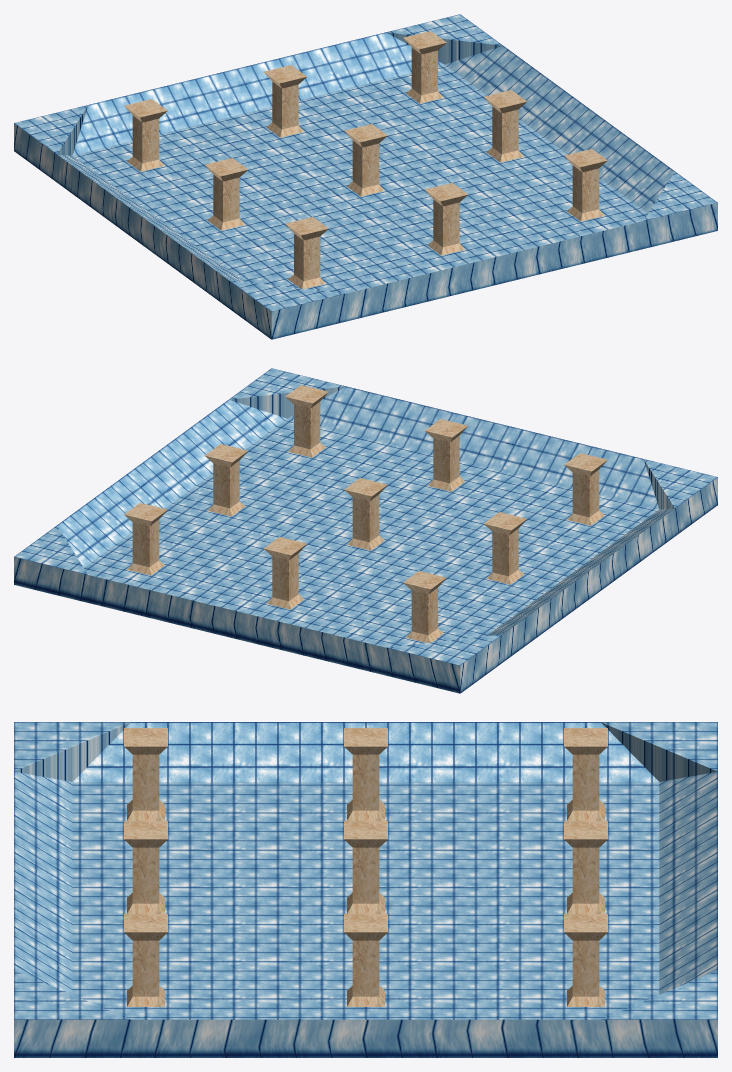
Rendered from greek.obj.
3 renders of one model, top to bottom at view 1: azimuth 30°, elevation 25°; view 2: azimuth 150°, elevation 25°; view 3: azimuth 270°, elevation 25°, orthographic. The views are drawn at different scales.
Visible parts, largest first — view 1: Cube_Cube_Material_glassblock06b.jpg, Cube.001_Cube.001_Material_marble29.tga, Cube.009_Cube.001_Material_marble29.tga, Cube.005_Cube.001_Material_marble29.tga, Cube.004_Cube.001_Material_marble29.tga, Cube.008_Cube.001_Material_marble29.tga, Cube.006_Cube.001_Material_marble29.tga, Cube.003_Cube.001_Material_marble29.tga, Cube.002_Cube.001_Material_marble29.tga, Cube.007_Cube.001_Material_marble29.tga; view 2: Cube_Cube_Material_glassblock06b.jpg, Cube.007_Cube.001_Material_marble29.tga, Cube.003_Cube.001_Material_marble29.tga, Cube.005_Cube.001_Material_marble29.tga, Cube.004_Cube.001_Material_marble29.tga, Cube.002_Cube.001_Material_marble29.tga, Cube.006_Cube.001_Material_marble29.tga, Cube.009_Cube.001_Material_marble29.tga, Cube.008_Cube.001_Material_marble29.tga, Cube.001_Cube.001_Material_marble29.tga; view 3: Cube_Cube_Material_glassblock06b.jpg, Cube.009_Cube.001_Material_marble29.tga, Cube.008_Cube.001_Material_marble29.tga, Cube.007_Cube.001_Material_marble29.tga, Cube.006_Cube.001_Material_marble29.tga, Cube.005_Cube.001_Material_marble29.tga, Cube.004_Cube.001_Material_marble29.tga, Cube.003_Cube.001_Material_marble29.tga, Cube.002_Cube.001_Material_marble29.tga, Cube.001_Cube.001_Material_marble29.tga.
Boxes of the visible parts, x1,y1,x2,y2 form: Cube_Cube_Material_glassblock06b.jpg: (14,14,717,339); Cube.001_Cube.001_Material_marble29.tga: (124,99,167,171); Cube.009_Cube.001_Material_marble29.tga: (564,149,607,221); Cube.005_Cube.001_Material_marble29.tga: (344,124,387,196); Cube.004_Cube.001_Material_marble29.tga: (484,90,527,162); Cube.008_Cube.001_Material_marble29.tga: (425,183,468,255); Cube.006_Cube.001_Material_marble29.tga: (205,158,248,230); Cube.003_Cube.001_Material_marble29.tga: (403,31,446,103); Cube.002_Cube.001_Material_marble29.tga: (264,65,306,137); Cube.007_Cube.001_Material_marble29.tga: (285,217,328,288); Cube_Cube_Material_glassblock06b.jpg: (14,368,717,693); Cube.007_Cube.001_Material_marble29.tga: (564,453,607,525); Cube.003_Cube.001_Material_marble29.tga: (124,503,167,575); Cube.005_Cube.001_Material_marble29.tga: (344,478,387,550); Cube.004_Cube.001_Material_marble29.tga: (204,444,247,516); Cube.002_Cube.001_Material_marble29.tga: (263,537,306,609); Cube.006_Cube.001_Material_marble29.tga: (483,512,526,584); Cube.009_Cube.001_Material_marble29.tga: (285,385,328,457); Cube.008_Cube.001_Material_marble29.tga: (425,419,467,491); Cube.001_Cube.001_Material_marble29.tga: (403,571,446,642); Cube_Cube_Material_glassblock06b.jpg: (14,722,717,1057); Cube.009_Cube.001_Material_marble29.tga: (124,914,167,1006); Cube.008_Cube.001_Material_marble29.tga: (124,821,167,913); Cube.007_Cube.001_Material_marble29.tga: (124,728,167,820); Cube.006_Cube.001_Material_marble29.tga: (344,728,387,820); Cube.005_Cube.001_Material_marble29.tga: (344,821,387,913); Cube.004_Cube.001_Material_marble29.tga: (344,914,387,1006); Cube.003_Cube.001_Material_marble29.tga: (564,914,607,1006); Cube.002_Cube.001_Material_marble29.tga: (564,821,607,913); Cube.001_Cube.001_Material_marble29.tga: (564,728,607,820).
Size of the model in its own units: 32 by 4.2 by 32.
2 materials, 2 textured.
